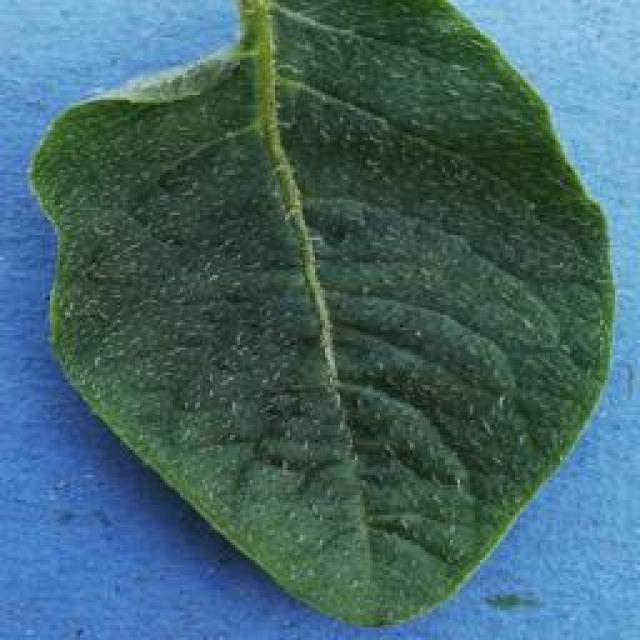Potato_Healthy: (29, 4, 606, 625)
